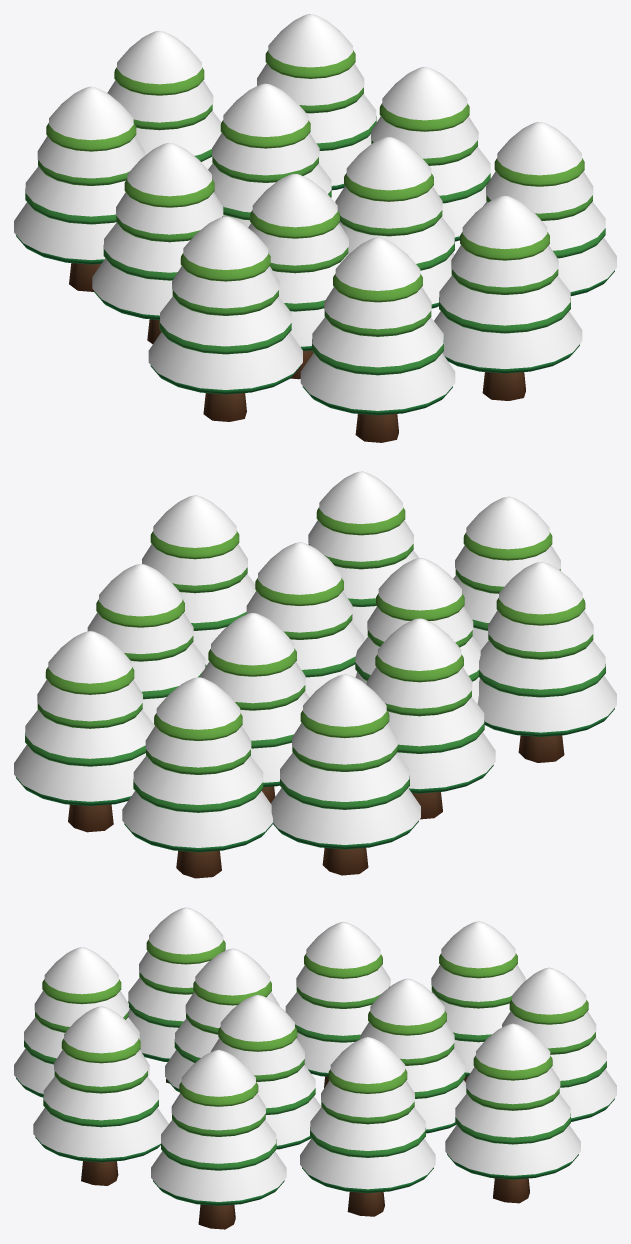
The model's file is treeGroup.fbx.
3 views of the same model, one above another, from view 1: azimuth 30°, elevation 25°; view 2: azimuth 150°, elevation 25°; view 3: azimuth 270°, elevation 25° (orthographic). The views are drawn at different scales.
Parts seen in each view (by area): view 1: polySurface20; view 2: polySurface20; view 3: polySurface20.
Part boxes in pixels (left/top/right/bottom): polySurface20: left=14, top=14, right=616, bottom=442; polySurface20: left=14, top=471, right=616, bottom=878; polySurface20: left=14, top=907, right=616, bottom=1229.
Size of the model in its own units: 5.96 by 2.37 by 7.58.
